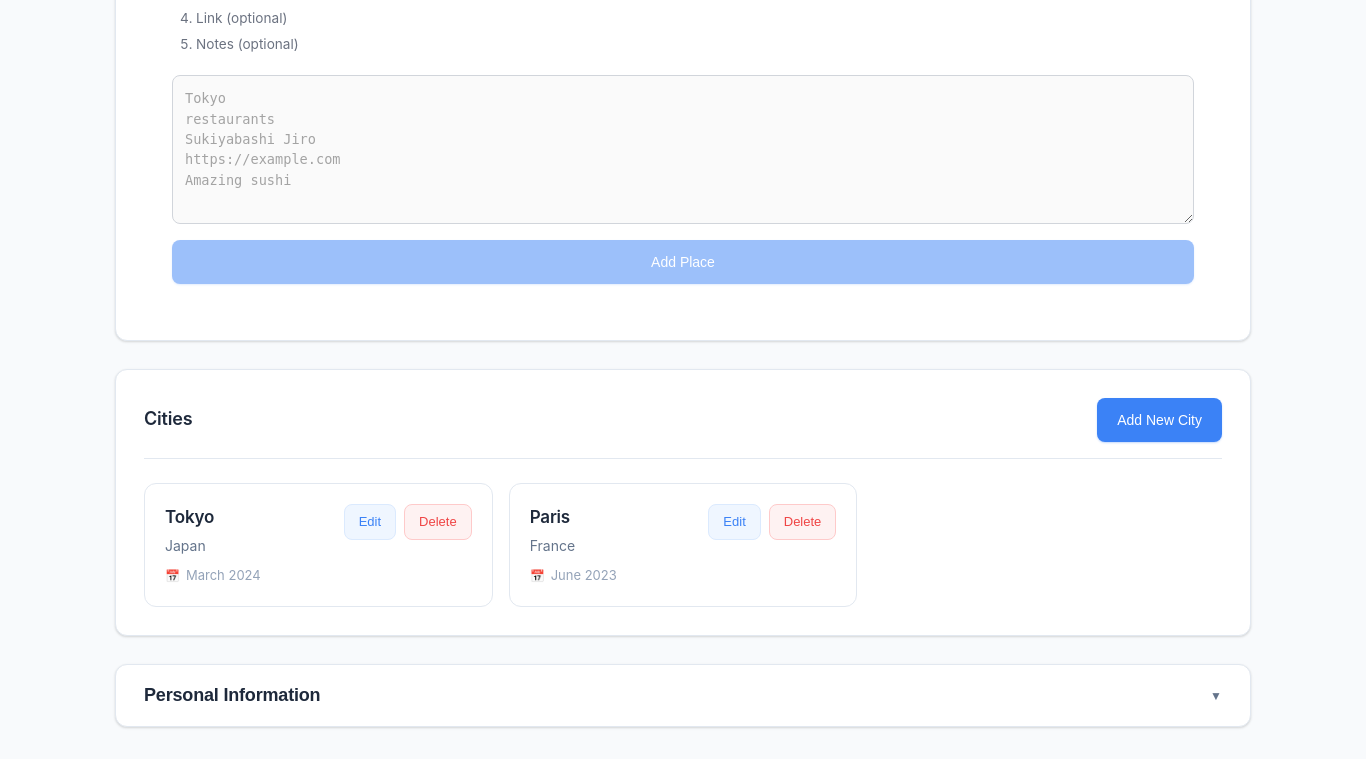
Test: AdminPanel Component › should close confirmation dialog when cancel is clicked
(page scrolled)
# Open delete confirmation
What coordinates should you click on to do the following:
click the button "Delete" in the row of "Tokyo"
I would click on:
 (438, 522)
Its box is [404,504,472,540].
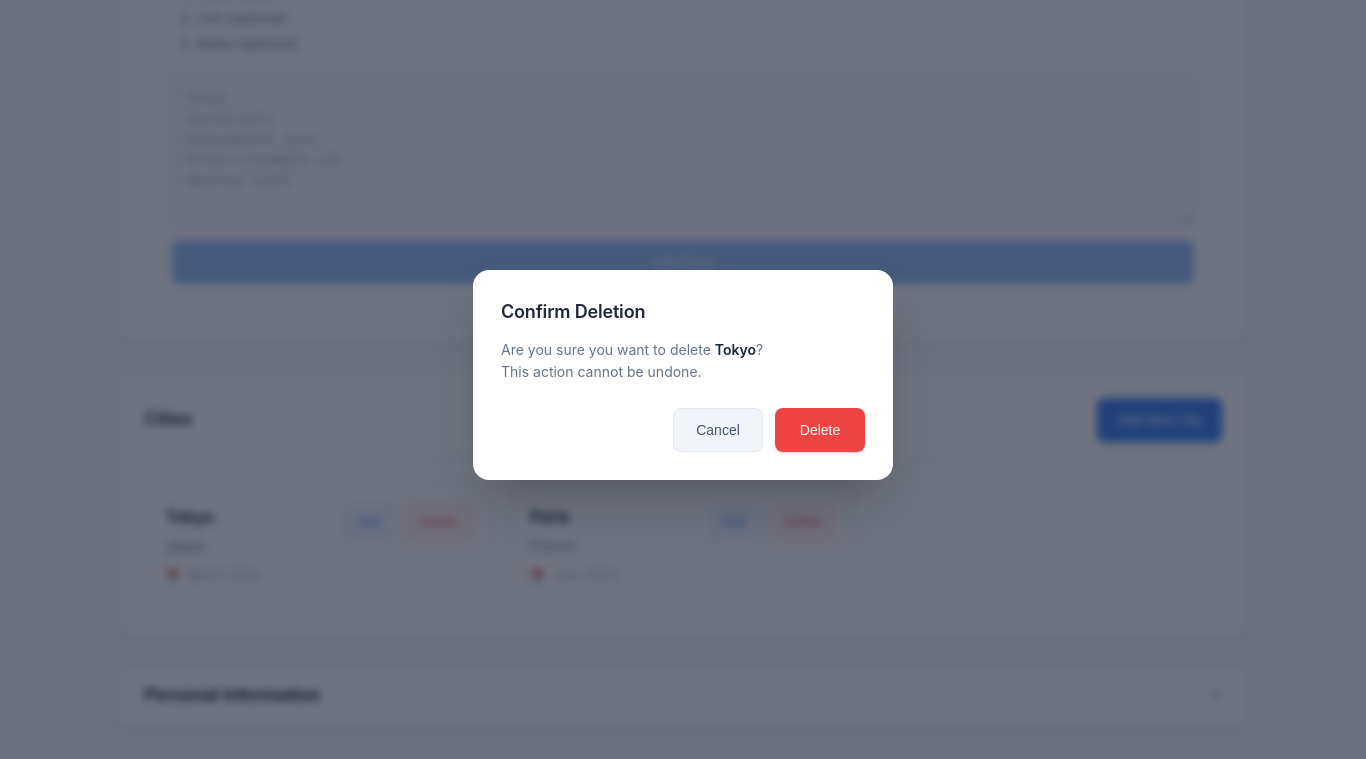
# Click cancel
What coordinates should you click on to do the following:
click the button "Cancel"
I would click on:
 (718, 430)
Its box is [673,408,763,452].
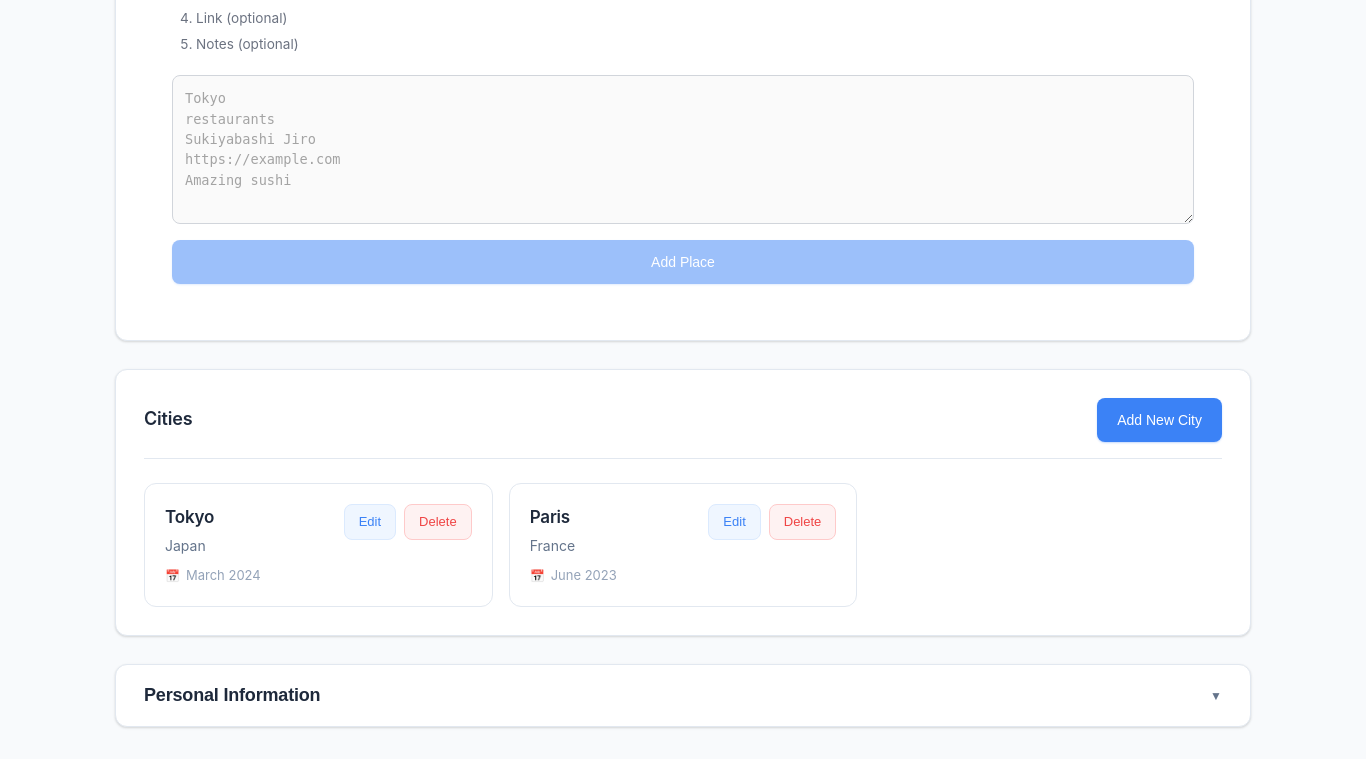
Result: the heading "Confirm Deletion" is gone
